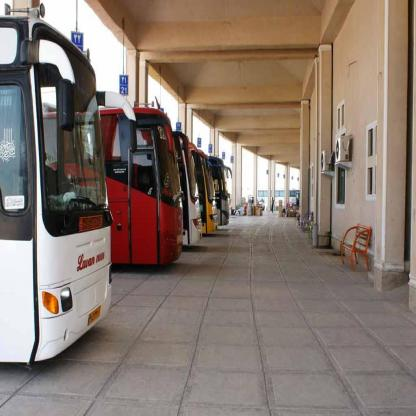Bus: (0, 0, 118, 376), (106, 80, 188, 275), (170, 123, 206, 250), (210, 156, 238, 227), (199, 152, 222, 237), (253, 181, 300, 214)
